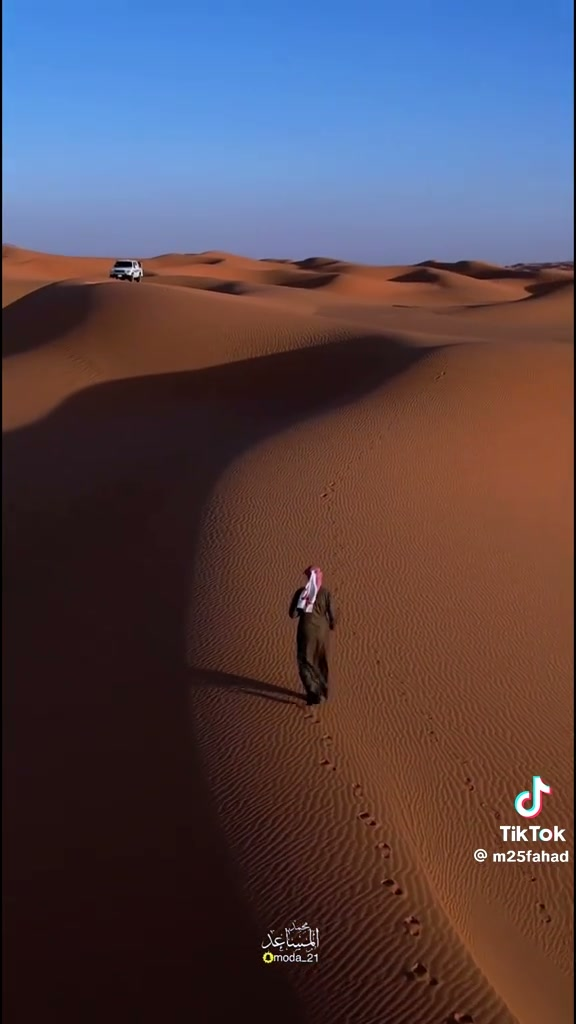human: (289, 567, 335, 704)
human_foot_print: (404, 961, 437, 986), (402, 914, 421, 936), (443, 1012, 474, 1023), (382, 879, 402, 895), (537, 902, 551, 923), (376, 841, 391, 859), (358, 812, 376, 827)
